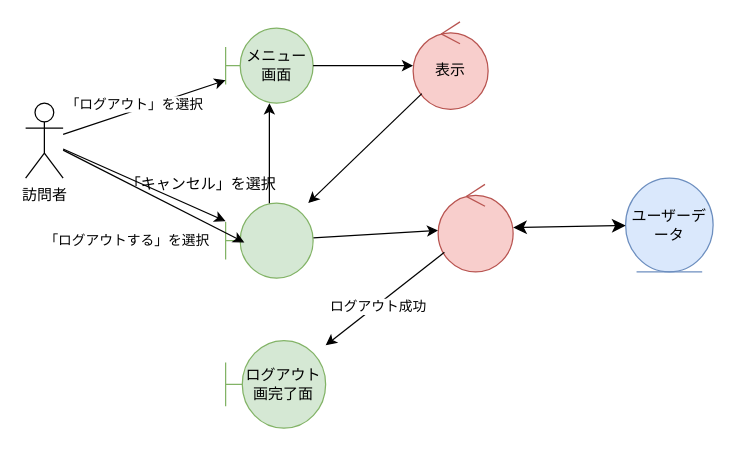
Some shapes in this 735 by 450 pixel diagram are drawn without their labels. Here are the shapes that lost their labels. From the top down, the centre of each, then its label:
At (x=268, y=240): "ログアウト画面".
At (x=475, y=227): "認証".
